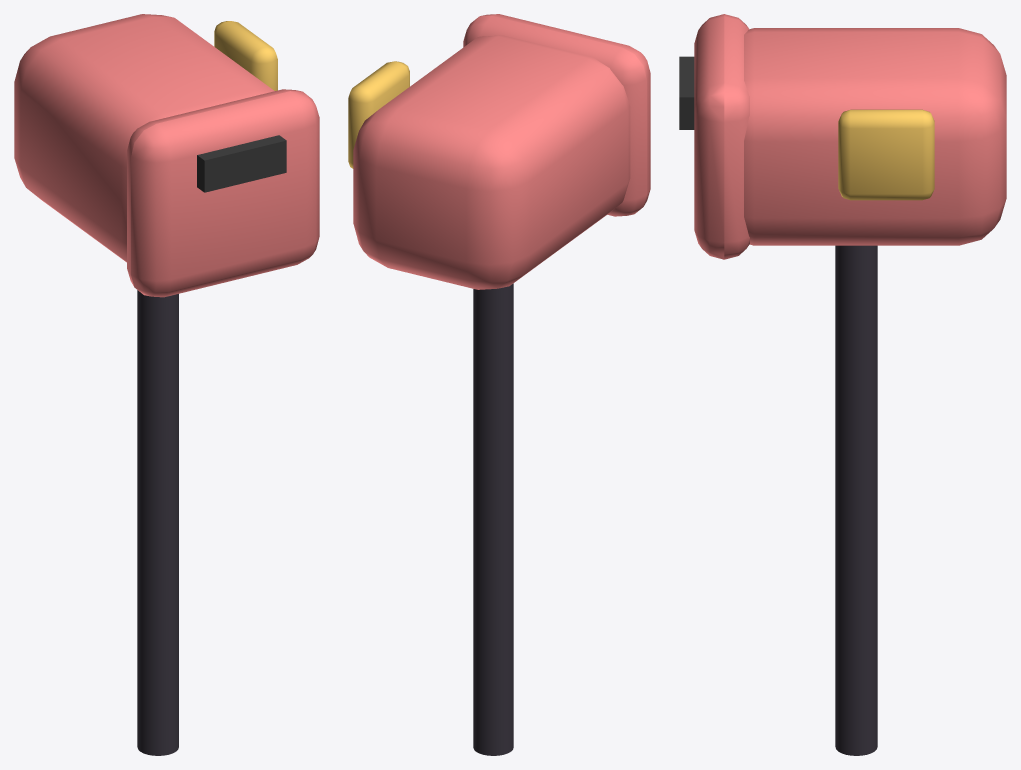
The model's file is mailbox_red.glb.
3 views of the same model, side by side, from view 1: azimuth 30°, elevation 25°; view 2: azimuth 150°, elevation 25°; view 3: azimuth 270°, elevation 25° (orthographic). The views are drawn at different scales.
Visible parts, largest first — view 1: mailbox_red; view 2: mailbox_red; view 3: mailbox_red.
Part boxes in pixels (x1,y1,x2,y2): mailbox_red: [14, 14, 319, 755]; mailbox_red: [348, 14, 650, 755]; mailbox_red: [679, 14, 1006, 755].
Size of the model in its own units: 0.405 by 1.28 by 0.545.
